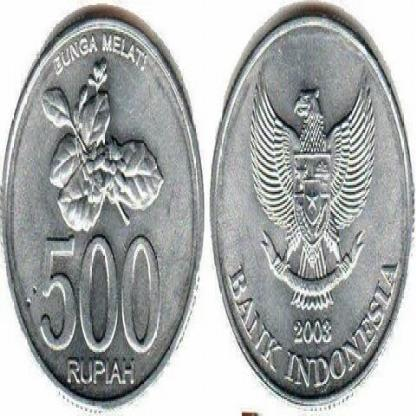coin_500_e2003: (202, 0, 416, 412), (0, 4, 204, 410)
